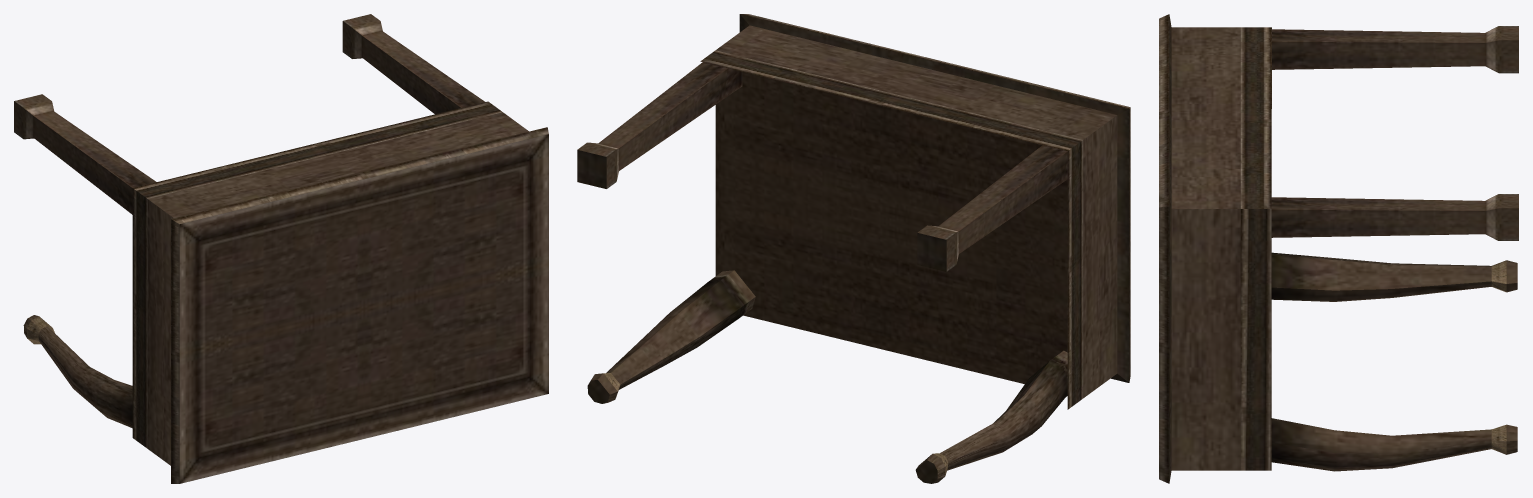
File: furniture_sidetable1.glb
3 renders of one model, left to right at view 1: azimuth 30°, elevation 25°; view 2: azimuth 150°, elevation 25°; view 3: azimuth 270°, elevation 25°, orthographic. The views are drawn at different scales.
Size of the model in its own units: 26.19 by 17.6 by 20.68.
1 material, 1 textured.
